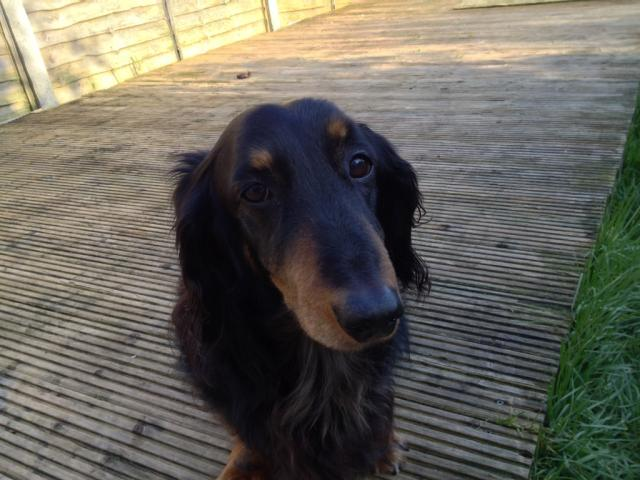Dog: (158, 95, 433, 480)
